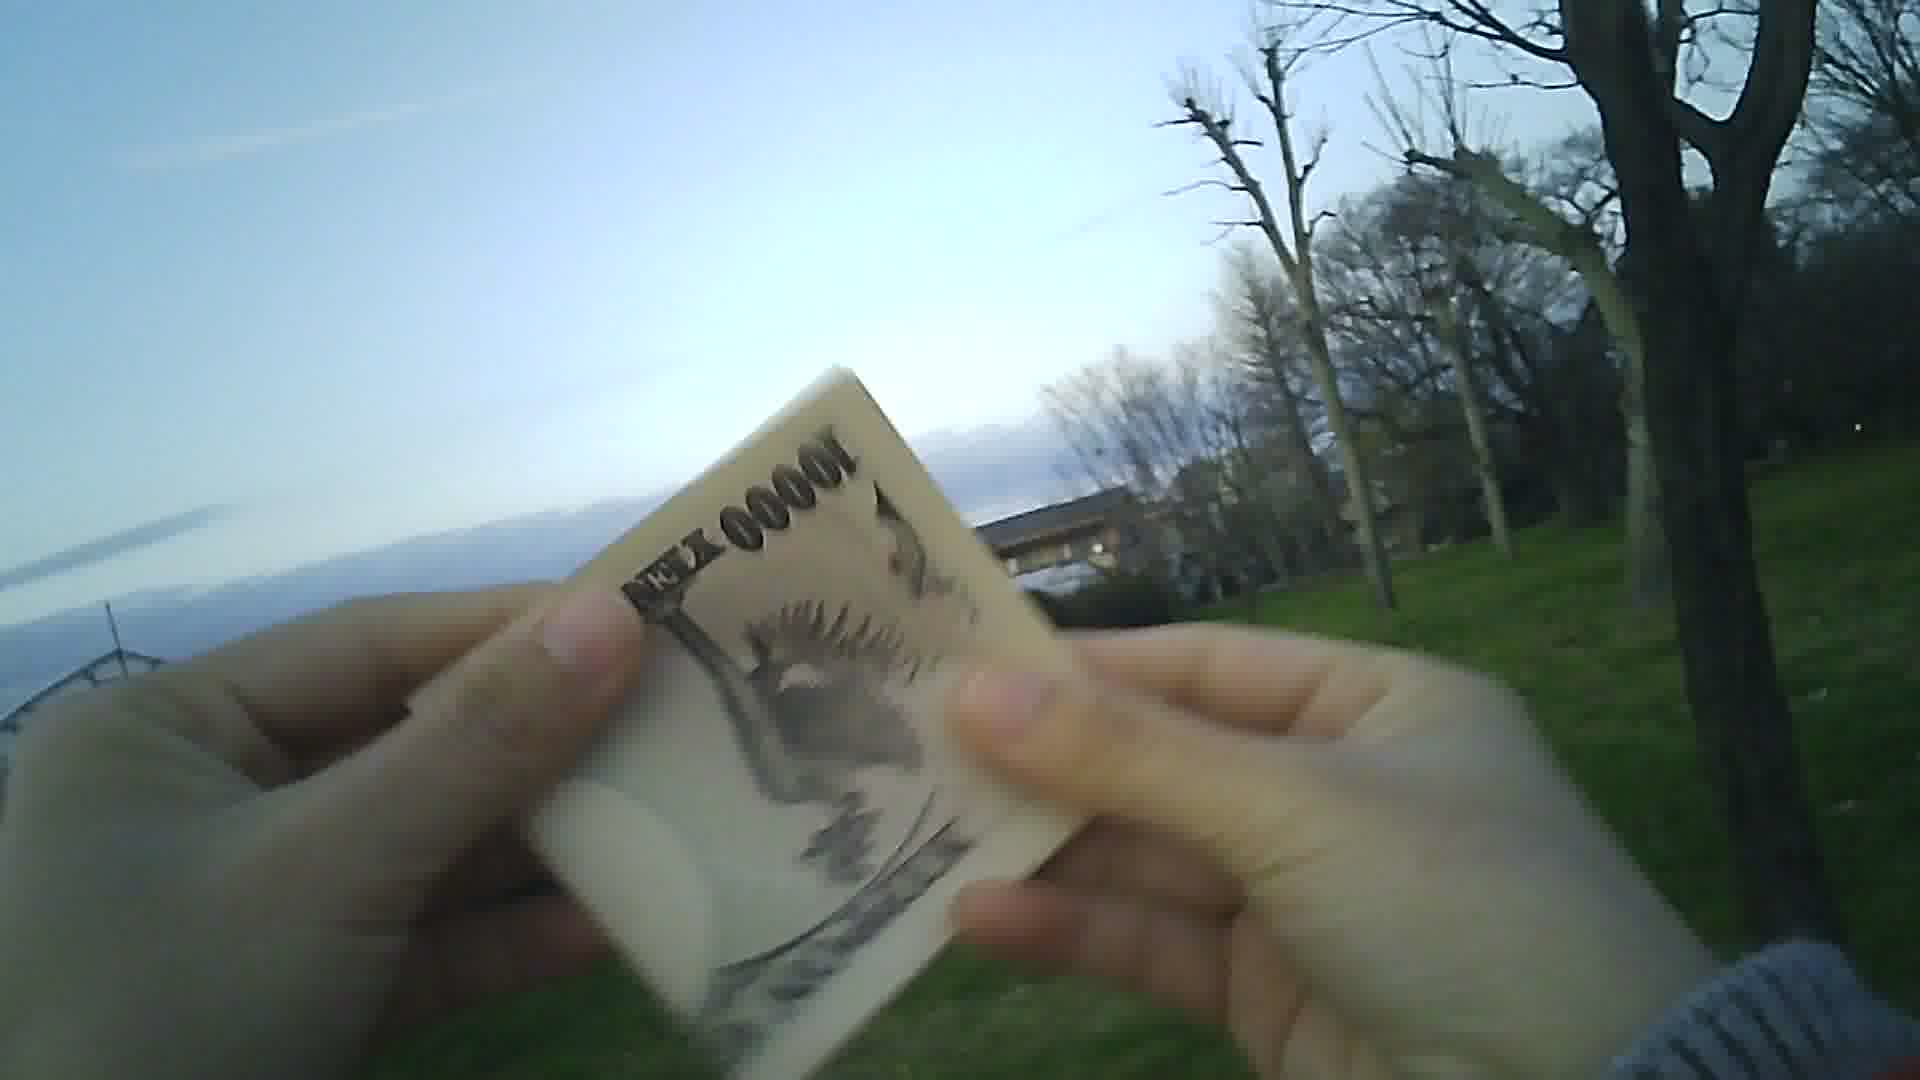10,000 Yen: (386, 347, 1134, 1079)
